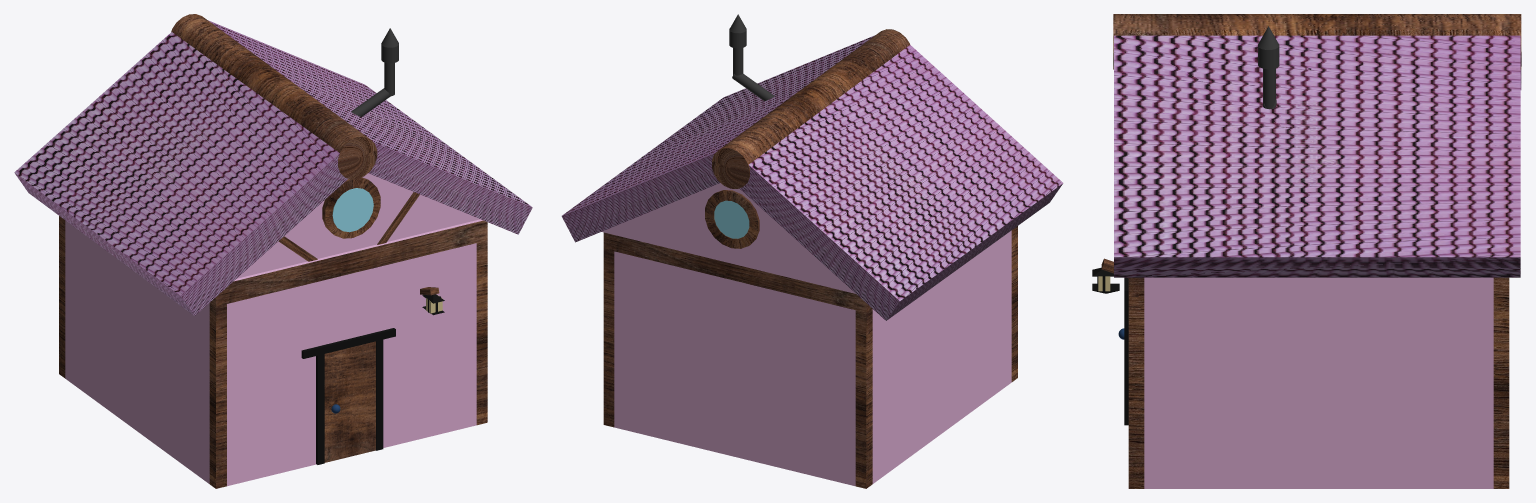
File: CASALVL1.fbx
3 views of the same model, side by side, from view 1: azimuth 30°, elevation 25°; view 2: azimuth 150°, elevation 25°; view 3: azimuth 270°, elevation 25° (orthographic). The views are drawn at different scales.
Visible parts, largest first — view 1: Box001, Box004, Box003, Cylinder002, Box002, Box005, Cylinder001, Tube002, Box007, Box006, Box008; view 2: Box001, Box004, Box003, Box002, Cylinder002, Tube001, Cylinder001; view 3: Box003, Box001, Cylinder002, Box006, Cylinder004.
Boxes of the visible parts, x1=… form: Box001: x1=59, y1=216, x2=487, y2=488; Box004: x1=14, y1=32, x2=348, y2=315; Box003: x1=208, y1=20, x2=532, y2=234; Cylinder002: x1=171, y1=14, x2=377, y2=179; Box002: x1=237, y1=173, x2=479, y2=278; Box005: x1=324, y1=341, x2=375, y2=462; Cylinder001: x1=332, y1=188, x2=373, y2=232; Tube002: x1=322, y1=177, x2=380, y2=238; Box007: x1=316, y1=349, x2=324, y2=464; Box006: x1=376, y1=334, x2=383, y2=450; Box008: x1=301, y1=328, x2=395, y2=358; Box001: x1=603, y1=226, x2=1017, y2=488; Box004: x1=739, y1=45, x2=1063, y2=320; Box003: x1=561, y1=35, x2=874, y2=242; Box002: x1=601, y1=183, x2=855, y2=293; Cylinder002: x1=712, y1=29, x2=909, y2=188; Tube001: x1=705, y1=190, x2=759, y2=248; Cylinder001: x1=714, y1=200, x2=749, y2=238; Box003: x1=1114, y1=35, x2=1520, y2=277; Box001: x1=1128, y1=277, x2=1509, y2=488; Cylinder002: x1=1113, y1=14, x2=1521, y2=69; Box006: x1=1124, y1=299, x2=1128, y2=425; Cylinder004: x1=1263, y1=68, x2=1275, y2=108.
Bounding box in the file's own units: 1.81 × 1.78 × 1.58.
